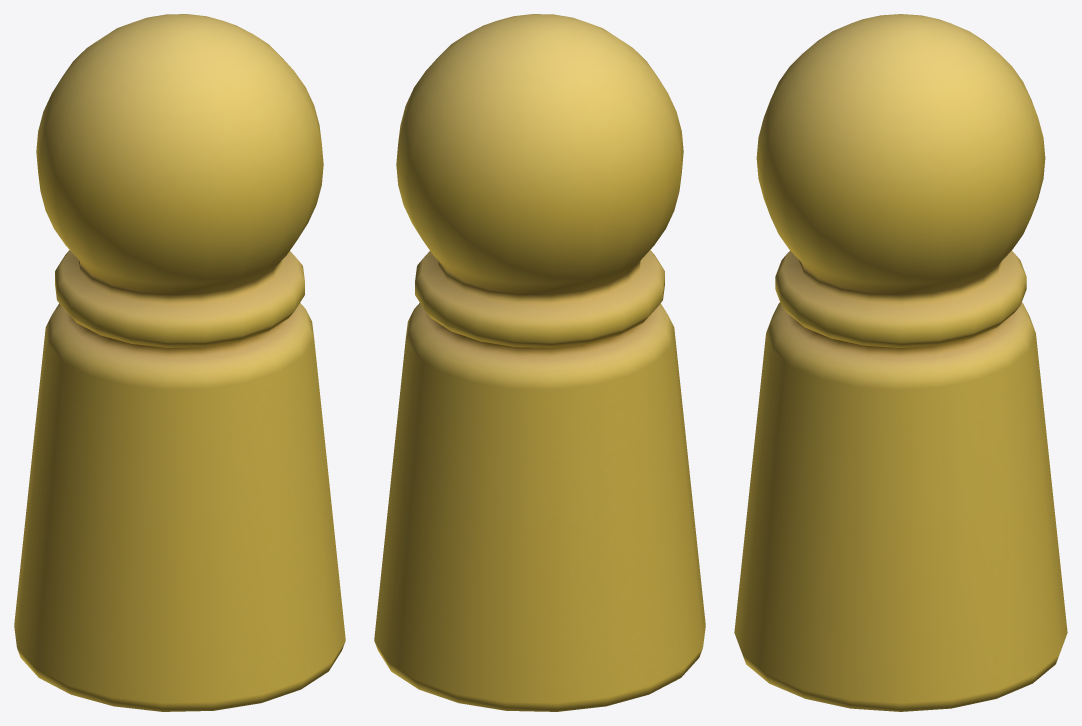
File: YutNori_PieceYellow.fbx
3 renders of one model, left to right at view 1: azimuth 30°, elevation 25°; view 2: azimuth 150°, elevation 25°; view 3: azimuth 270°, elevation 25°, orthographic.
Visible parts, largest first — view 1: YutNori_PieceYellow; view 2: YutNori_PieceYellow; view 3: YutNori_PieceYellow.
Part boxes in pixels (x1=…): YutNori_PieceYellow: x1=14, y1=14, x2=345, y2=711; YutNori_PieceYellow: x1=374, y1=14, x2=705, y2=711; YutNori_PieceYellow: x1=734, y1=14, x2=1067, y2=711.
Size of the model in its own units: 2.55 by 5.23 by 2.55.
